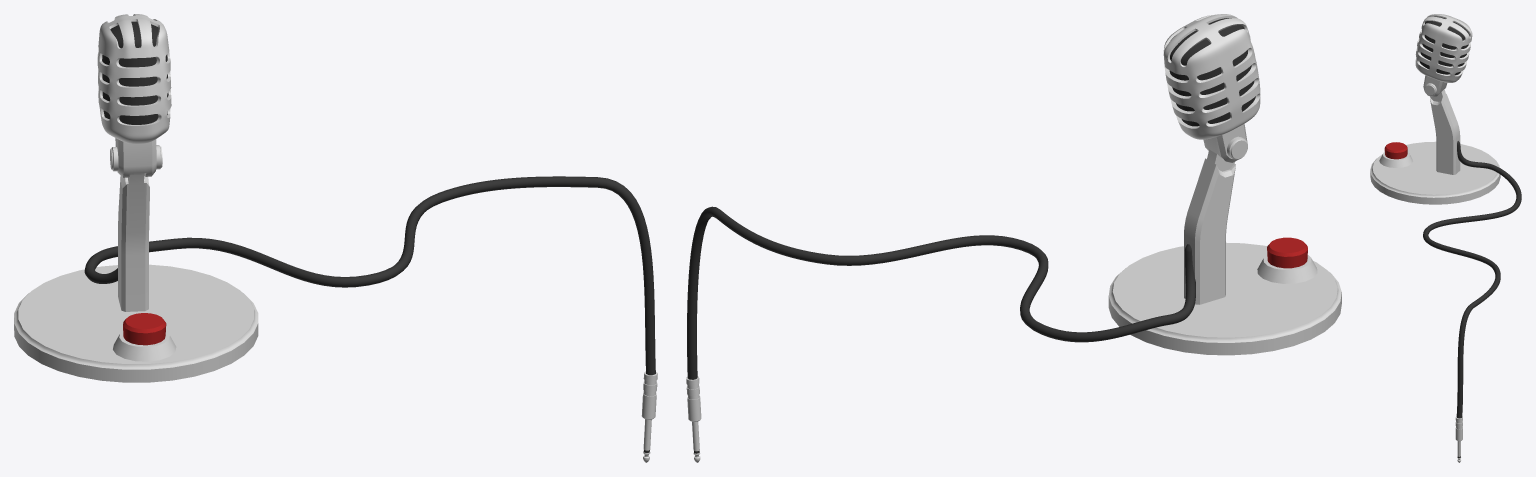
The model's file is Microphone.fbx.
The picture shows the model from 3 angles, left to right: view 1: azimuth 30°, elevation 25°; view 2: azimuth 150°, elevation 25°; view 3: azimuth 270°, elevation 25°; orthographic projection. The views are drawn at different scales.
Parts seen in each view (by area): view 1: Cube.001, BezierCurve, Plane.001, Circle, Cube.000, Circle.002; view 2: Cube.001, Plane.001, BezierCurve, Cube.000, Circle, Circle.002; view 3: Cube.001, Plane.001, BezierCurve, Cube.000, Circle, Circle.002.
Boxes of the visible parts, bbox=[...] form: Cube.001: bbox=[14, 174, 258, 382]; BezierCurve: bbox=[84, 176, 655, 375]; Plane.001: bbox=[97, 14, 171, 143]; Circle: bbox=[110, 138, 162, 177]; Cube.000: bbox=[123, 313, 166, 345]; Circle.002: bbox=[641, 371, 657, 462]; Cube.001: bbox=[1108, 149, 1341, 355]; Plane.001: bbox=[1163, 14, 1260, 139]; BezierCurve: bbox=[687, 206, 1195, 379]; Cube.000: bbox=[1267, 237, 1307, 268]; Circle: bbox=[1203, 124, 1247, 162]; Circle.002: bbox=[686, 376, 701, 462]; Cube.001: bbox=[1370, 89, 1500, 204]; Plane.001: bbox=[1415, 14, 1472, 82]; BezierCurve: bbox=[1423, 141, 1521, 418]; Cube.000: bbox=[1384, 142, 1407, 159]; Circle: bbox=[1423, 75, 1447, 97]; Circle.002: bbox=[1455, 416, 1462, 462].
Size of the model in its own units: 326 by 279 by 124.
